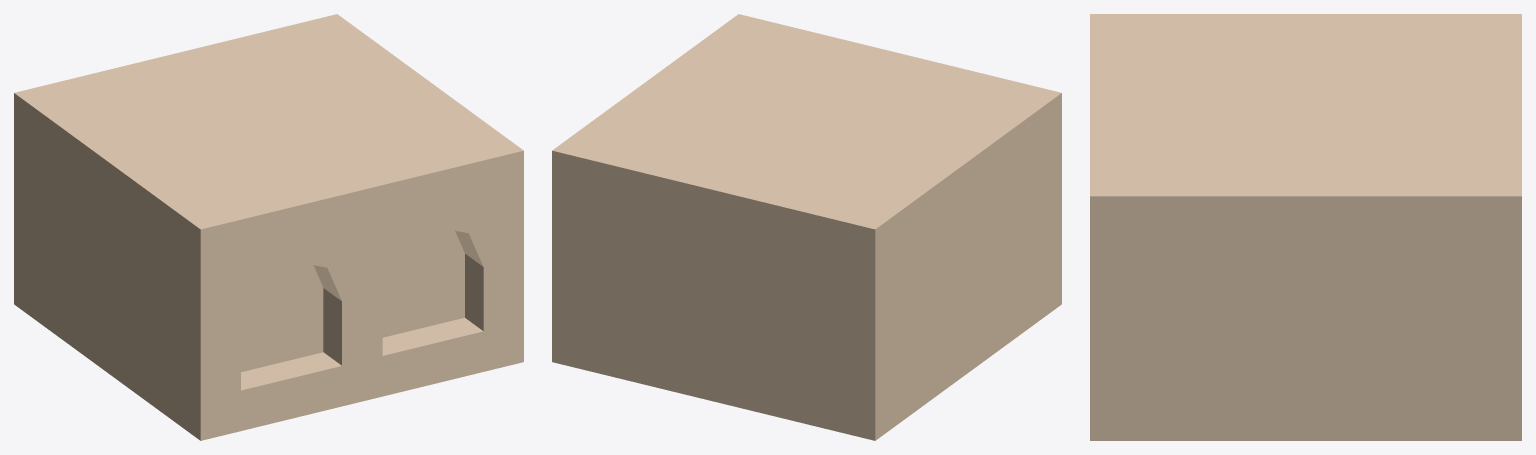
Rendered from building-windows-round.obj.
3 views of the same model, side by side, from view 1: azimuth 30°, elevation 25°; view 2: azimuth 150°, elevation 25°; view 3: azimuth 270°, elevation 25° (orthographic). The views are drawn at different scales.
Bounding box in the file's own units: 1 × 0.625 × 1.
